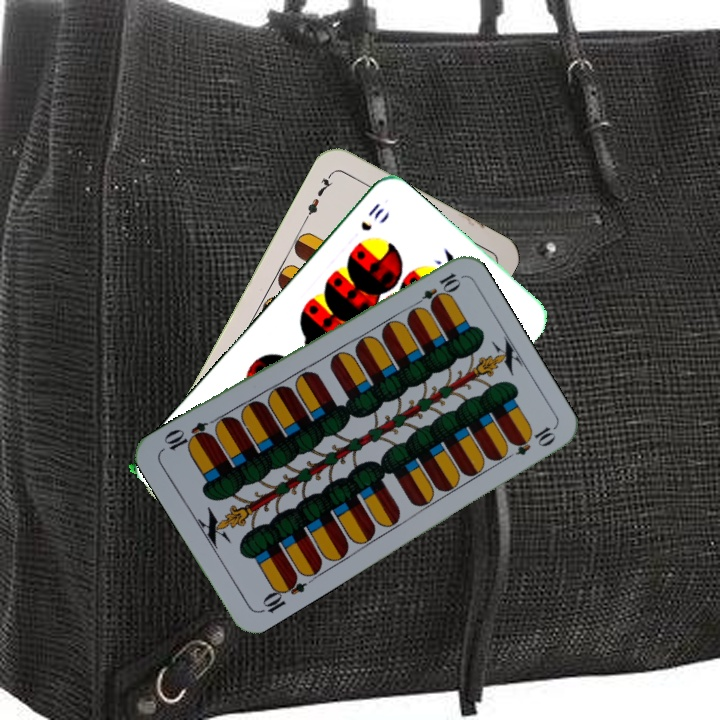E10: (256, 570, 309, 616), (409, 268, 463, 311)
E7: (300, 169, 336, 223)
S10: (357, 198, 387, 234)
